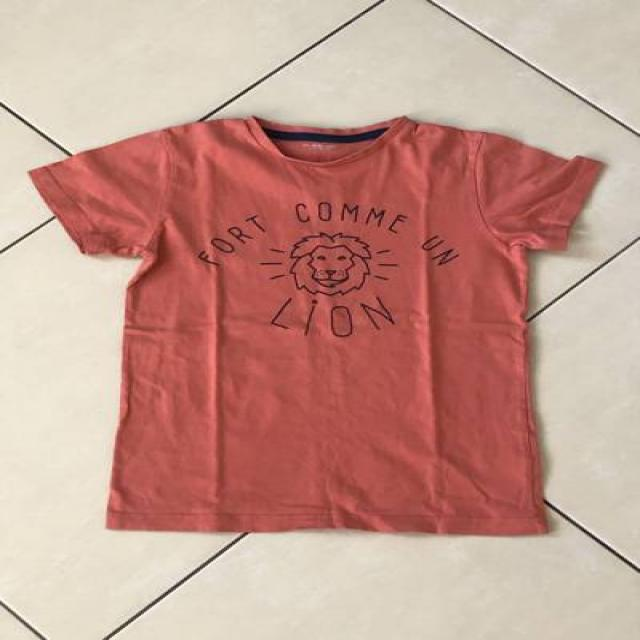Clothes -Biodegradable-: (32, 114, 600, 531)
